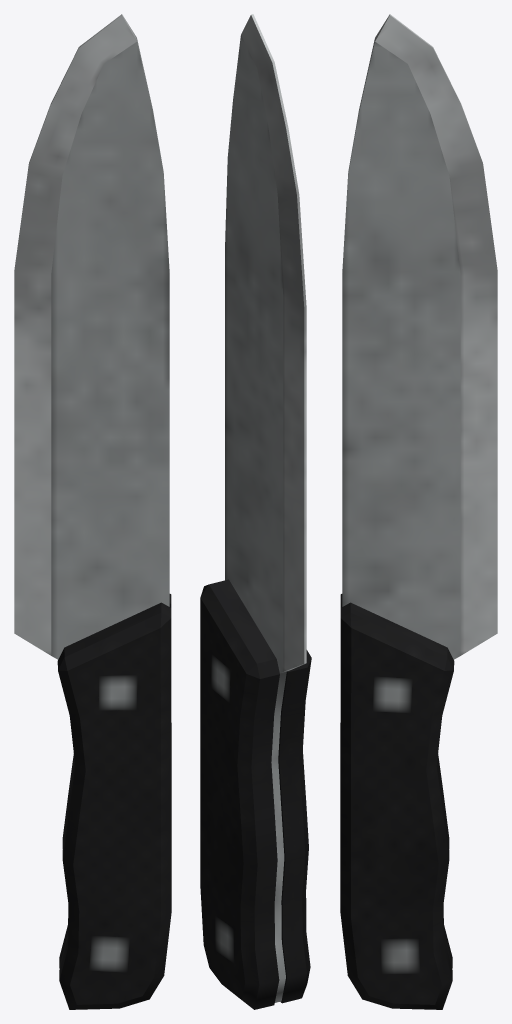
The model's file is kitchen_knife_big.obj.
The picture shows the model from 3 angles, left to right: view 1: azimuth 90°, elevation 25°; view 2: azimuth 210°, elevation 25°; view 3: azimuth 270°, elevation 25°; orthographic projection.
Visible parts, largest first — view 1: kitchen_knife_big; view 2: kitchen_knife_big; view 3: kitchen_knife_big.
Part boxes in pixels (<box>): kitchen_knife_big: <box>14,14,171,1009</box>; kitchen_knife_big: <box>200,14,311,1009</box>; kitchen_knife_big: <box>340,14,497,1009</box>.
Bounding box in the file's own units: 0.0232 × 0.328 × 0.0475.
